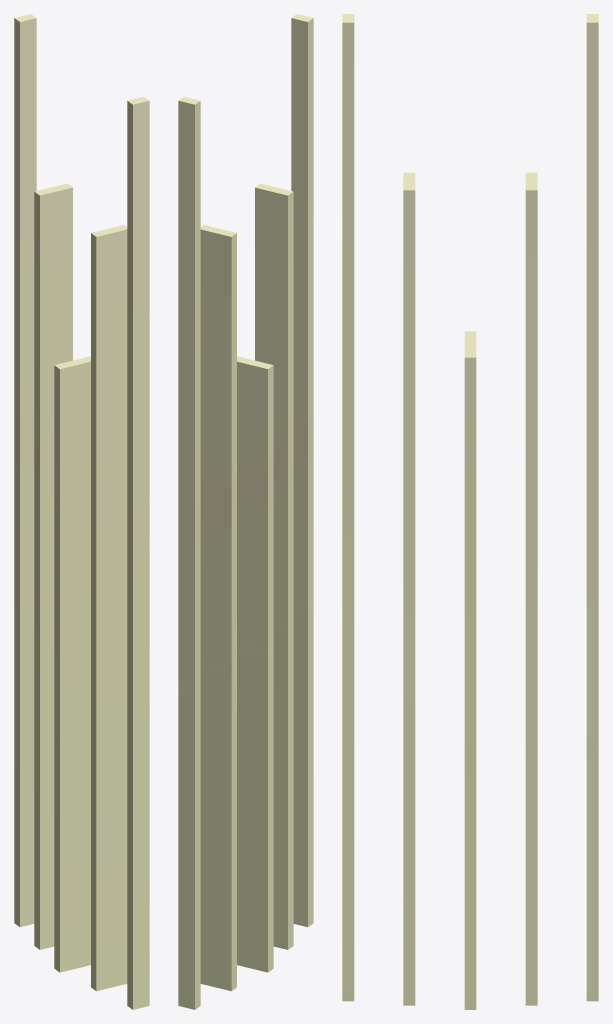
Rendered from W_O_Streetlamp_009_L1.fbx.
The picture shows the model from 3 angles, left to right: view 1: azimuth 30°, elevation 25°; view 2: azimuth 150°, elevation 25°; view 3: azimuth 270°, elevation 25°; orthographic projection. The views are drawn at different scales.
Parts seen in each view (by area): view 1: W_O_Streetlamp_009_L1; view 2: W_O_Streetlamp_009_L1; view 3: W_O_Streetlamp_009_L1.
Part boxes in pixels (box(x1,y1,x2,y2)): W_O_Streetlamp_009_L1: box(14, 14, 149, 1009); W_O_Streetlamp_009_L1: box(178, 14, 313, 1009); W_O_Streetlamp_009_L1: box(342, 14, 598, 1009).
Bounding box in the file's own units: 0.2589 × 1.07 × 4.5.
Materials: 1 (1 with a texture image).
